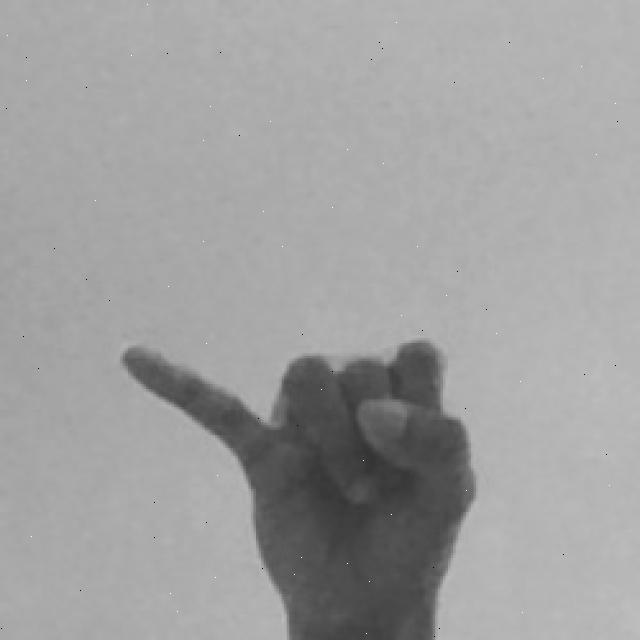I: (116, 334, 485, 640)
